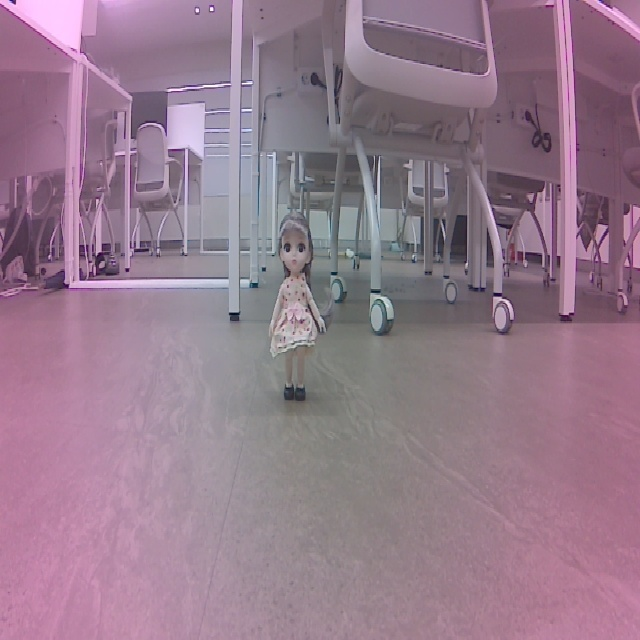장애물: (328, 177, 413, 386)
